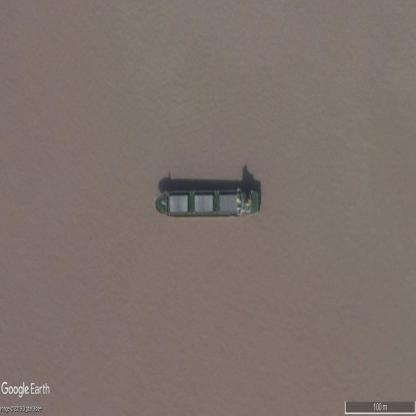ship: (153, 187, 260, 217)
